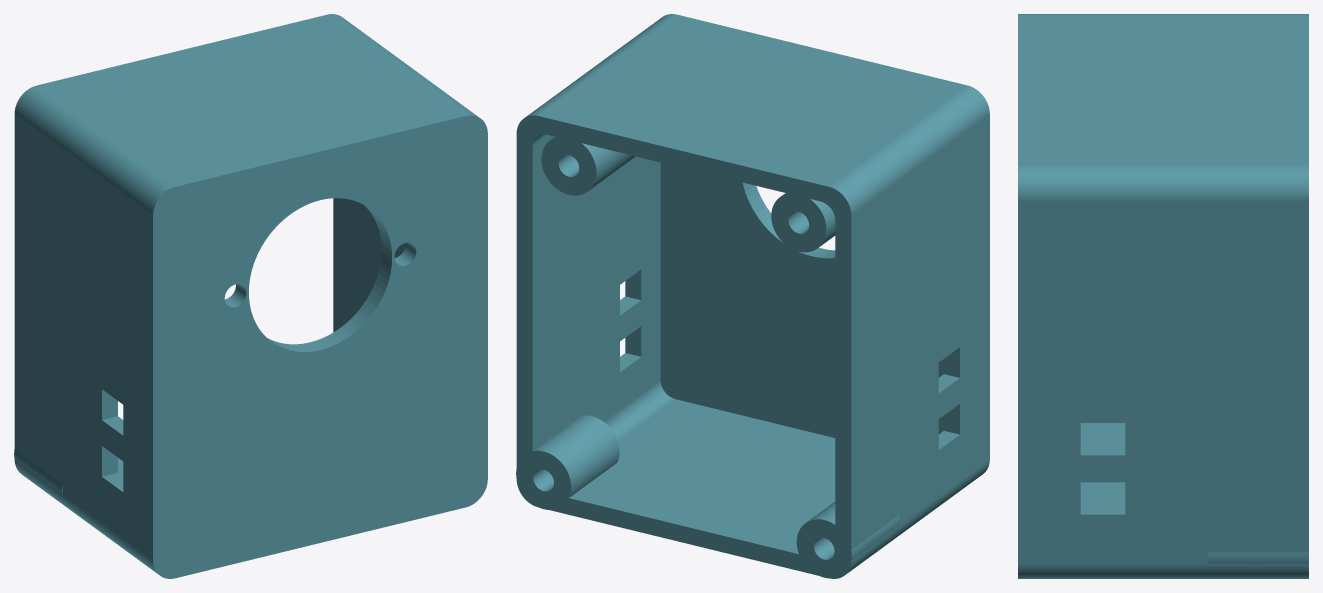
File: m18-usb-charger-v1.glb
3 renders of one model, left to right at view 1: azimuth 30°, elevation 25°; view 2: azimuth 150°, elevation 25°; view 3: azimuth 270°, elevation 25°, orthographic. The views are drawn at different scales.
Parts seen in each view (by area): view 1: V1 printable upper shell; view 2: V1 printable upper shell; view 3: V1 printable upper shell.
Boxes of the visible parts, x1=… form: V1 printable upper shell: x1=14, y1=14, x2=487, y2=578; V1 printable upper shell: x1=516, y1=14, x2=989, y2=578; V1 printable upper shell: x1=1018, y1=14, x2=1308, y2=578.
Size of the model in its own units: 68.2 by 76.1 by 48.75.
